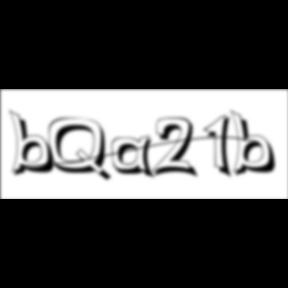1: (202, 114, 237, 182)
2: (152, 117, 202, 181)
Q: (48, 117, 114, 184)
a: (112, 135, 160, 182)
b: (8, 109, 62, 179), (230, 109, 282, 179)
